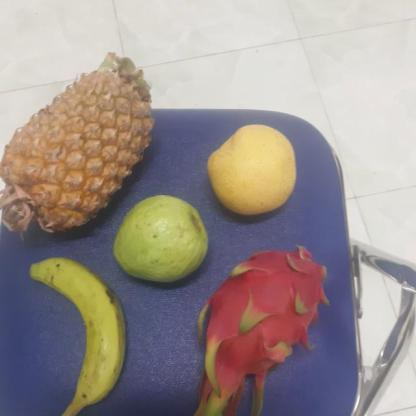banana: (31, 262, 131, 413)
guava: (111, 195, 211, 288), (208, 127, 300, 216)
pineapple: (0, 64, 158, 238)
pitaya: (194, 250, 334, 398)
